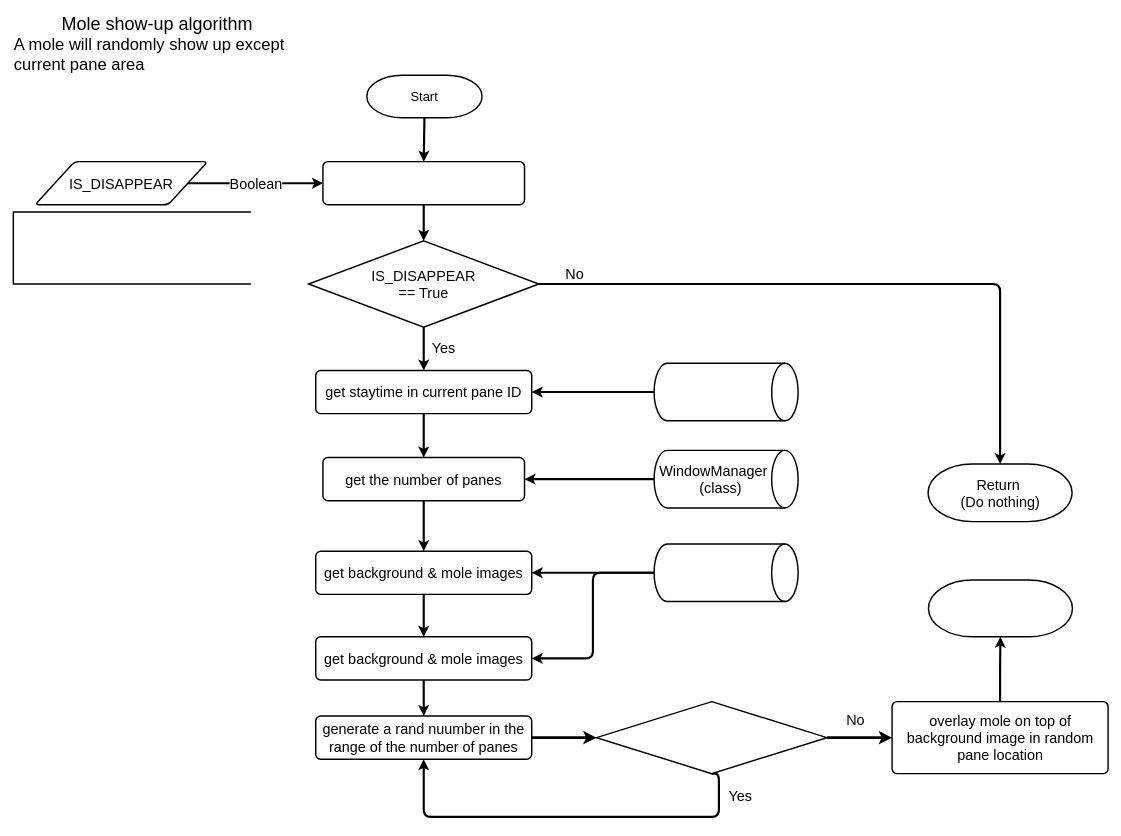
This 1121x836 diagram has some shape labels left out. The shapes that lost their labels are listed below. From the top down, each one's box as (x1, y1, x2, y2) in pixels, then its label:
(322, 161, 525, 205): get the value of IS_SHOW
(12, 211, 251, 284): IS_SHOW is the return value of the function 'mole_disappear_decision'
(653, 362, 798, 421): Player (class)
(653, 543, 798, 602): MoleManager (class)
(927, 579, 1073, 637): Return overlayed image
(595, 701, 827, 774): rand # == current pane #
